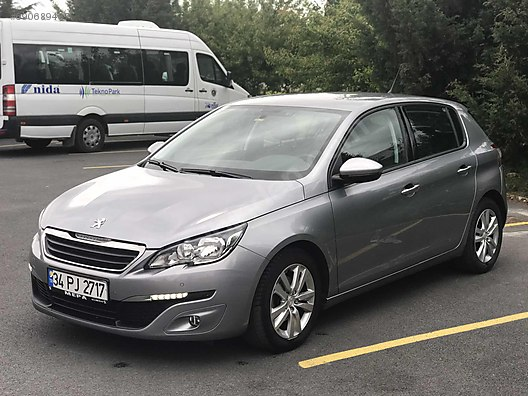peugeot: (20, 93, 512, 356)
